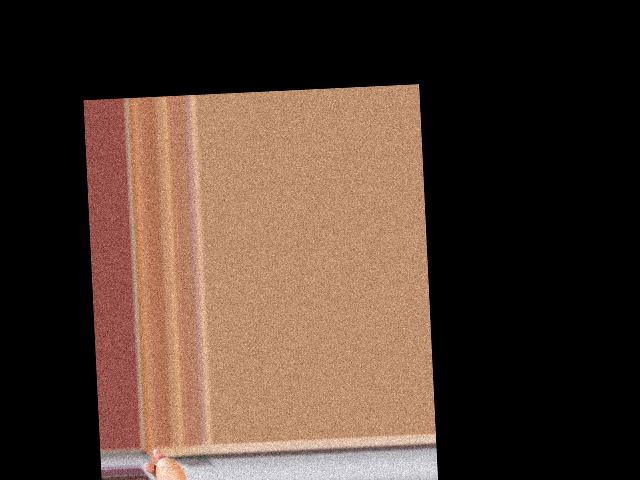egg: (154, 456, 185, 480)
